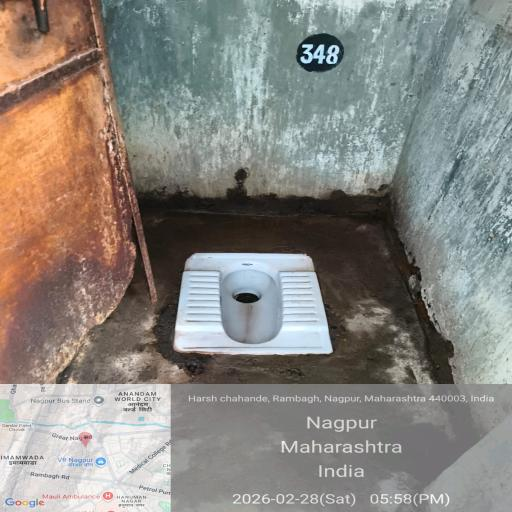dirty_floor: (132, 175, 439, 388), (3, 0, 136, 352)
partial_dirty_floor: (127, 6, 499, 158)
partial_dirty_indian: (168, 250, 334, 348)
